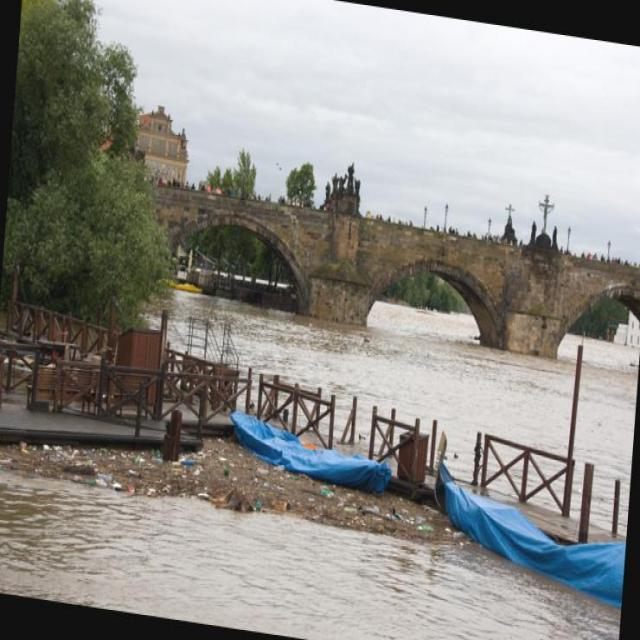flood: (0, 272, 637, 638)
